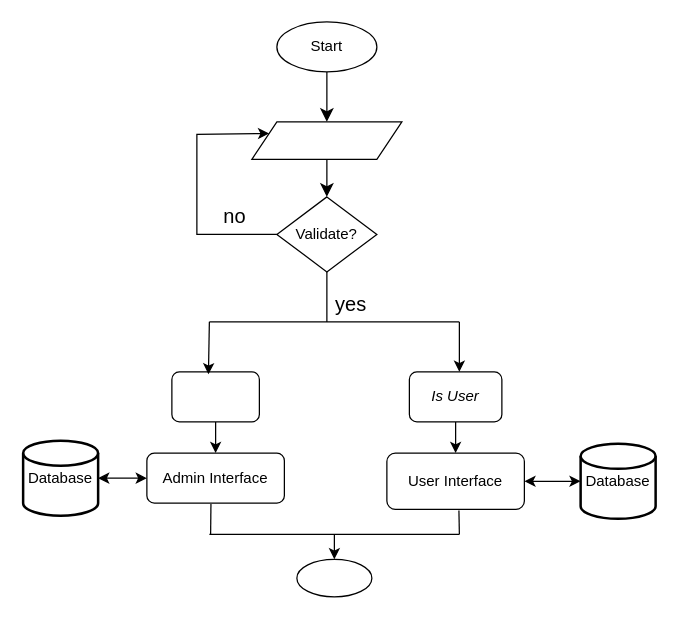
This 678x619 diagram has some shape labels left out. Here are the shapes that lost their labels. From the top down, the box of each, then its label:
(251, 121, 402, 159): Enter details
(171, 371, 259, 422): Is Admin?
(296, 558, 372, 597): End
